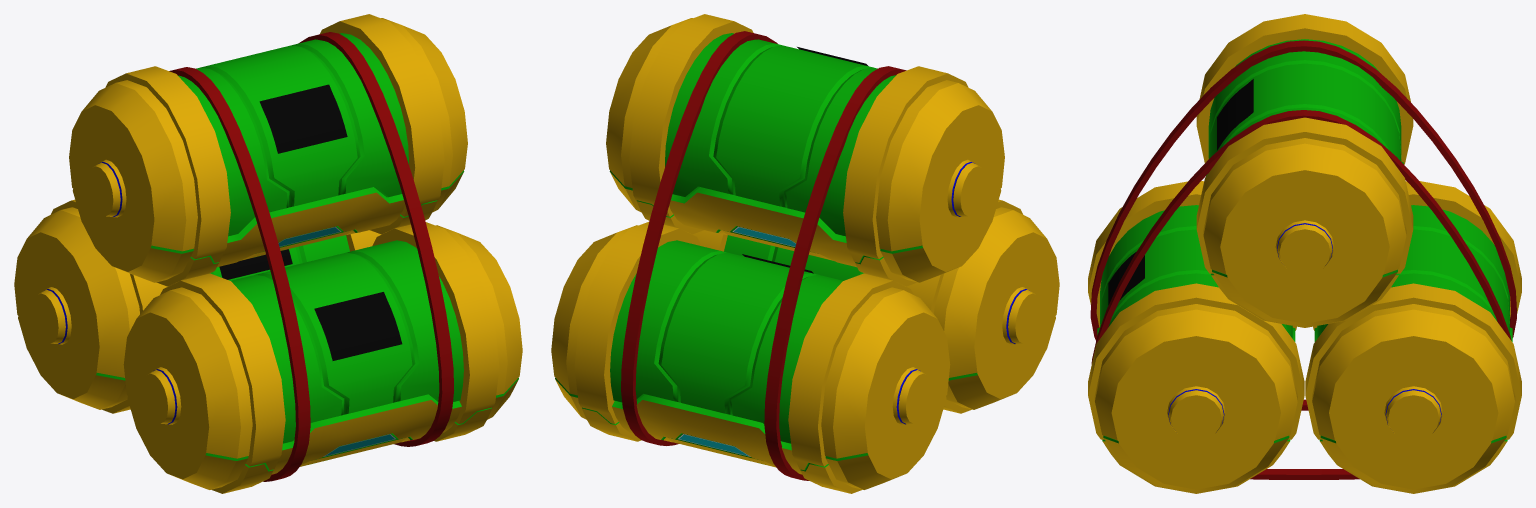
File: SM0214_Lobby_EnergyCapsules_02.fbx
3 renders of one model, left to right at view 1: azimuth 30°, elevation 25°; view 2: azimuth 150°, elevation 25°; view 3: azimuth 270°, elevation 25°, orthographic.
Visible parts, largest first — view 1: SM0214_Lobby_EnergyCapsules_02; view 2: SM0214_Lobby_EnergyCapsules_02; view 3: SM0214_Lobby_EnergyCapsules_02.
Part boxes in pixels (bbox=[...]): SM0214_Lobby_EnergyCapsules_02: bbox=[14, 14, 522, 493]; SM0214_Lobby_EnergyCapsules_02: bbox=[551, 14, 1059, 493]; SM0214_Lobby_EnergyCapsules_02: bbox=[1088, 14, 1521, 493].
Size of the model in its own units: 334 by 377 by 354.
